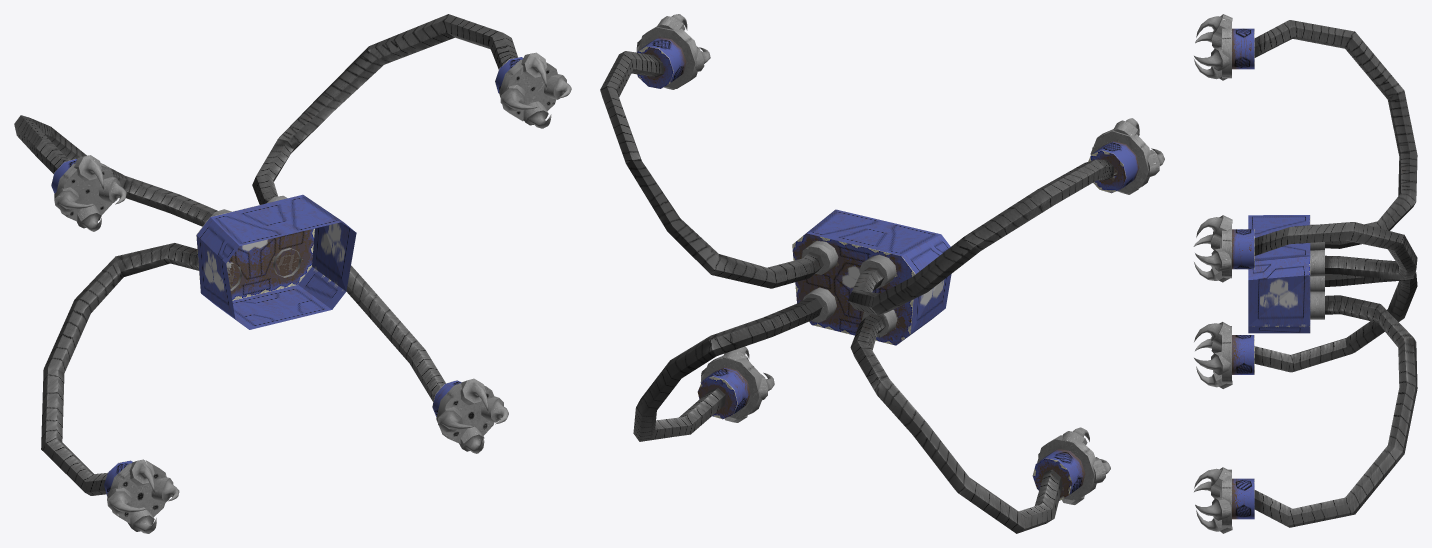
File: BACK_CHIBI_OCTOPUS_ARMS.fbx
3 views of the same model, side by side, from view 1: azimuth 30°, elevation 25°; view 2: azimuth 150°, elevation 25°; view 3: azimuth 270°, elevation 25° (orthographic). The views are drawn at different scales.
Parts seen in each view (by area): view 1: BACK_CHIBI_OCTOPUS; view 2: BACK_CHIBI_OCTOPUS; view 3: BACK_CHIBI_OCTOPUS.
Part boxes in pixels (x1,y1,x2,y2): BACK_CHIBI_OCTOPUS: (14,14,571,533); BACK_CHIBI_OCTOPUS: (600,14,1164,533); BACK_CHIBI_OCTOPUS: (1193,14,1417,533).
Size of the model in its own units: 0.0991 by 0.0719 by 0.0418.
